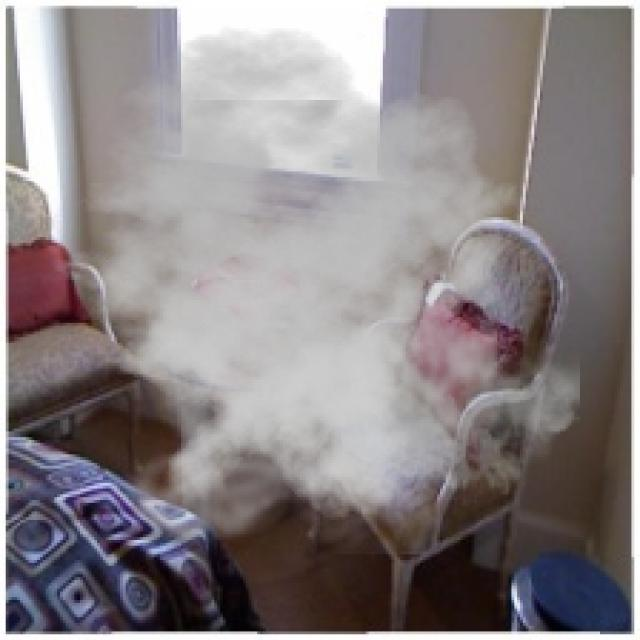smoke: (31, 26, 580, 554)
